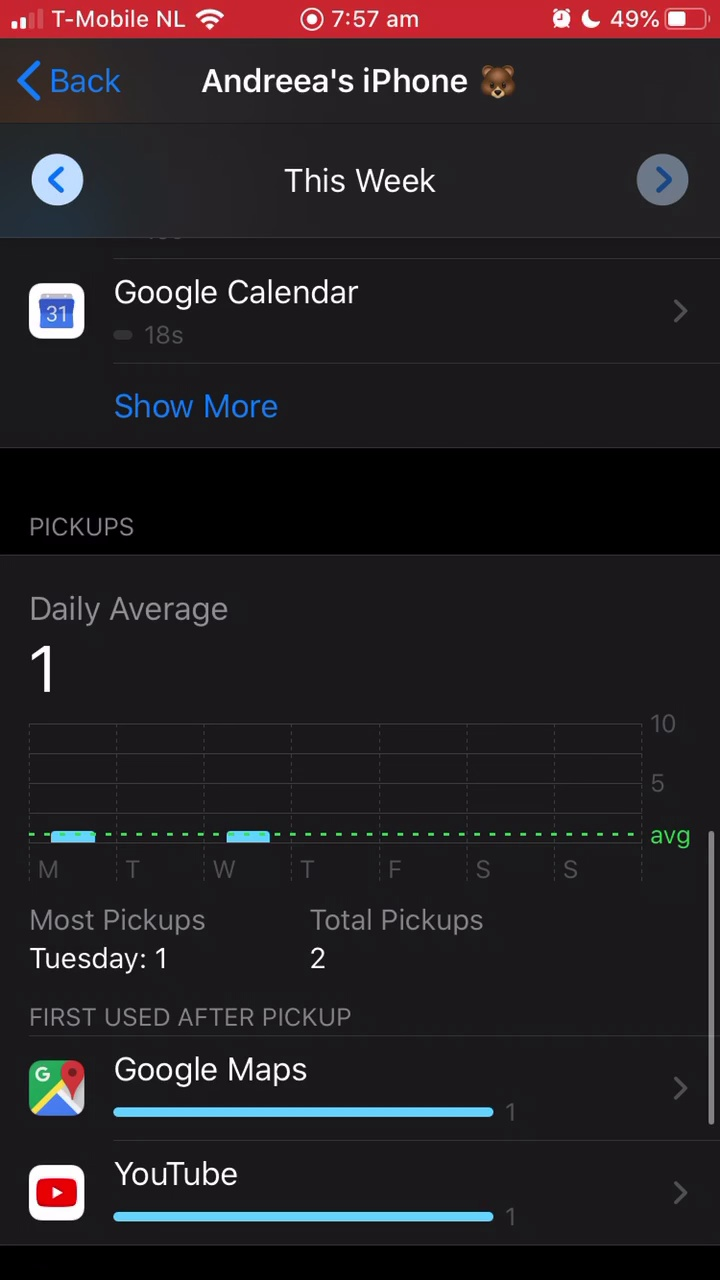pick_app: (15, 1041, 562, 1144), (12, 1149, 556, 1247)
pick_over: (17, 889, 537, 992)
week: (266, 154, 442, 205)
